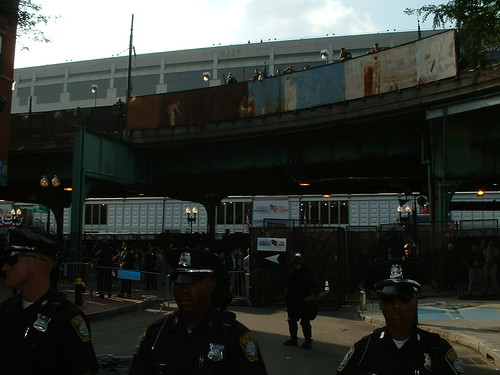bridge: (2, 61, 487, 212)
policeman: (129, 248, 266, 375), (1, 241, 97, 375), (338, 276, 463, 375), (284, 248, 314, 356)
sky: (38, 1, 436, 56)
